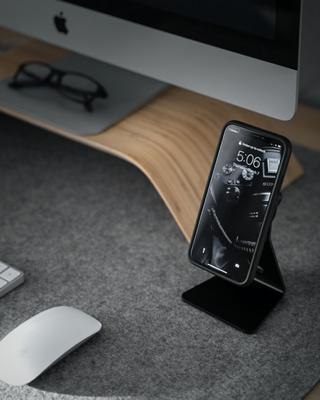cell-phone: (183, 115, 292, 289)
